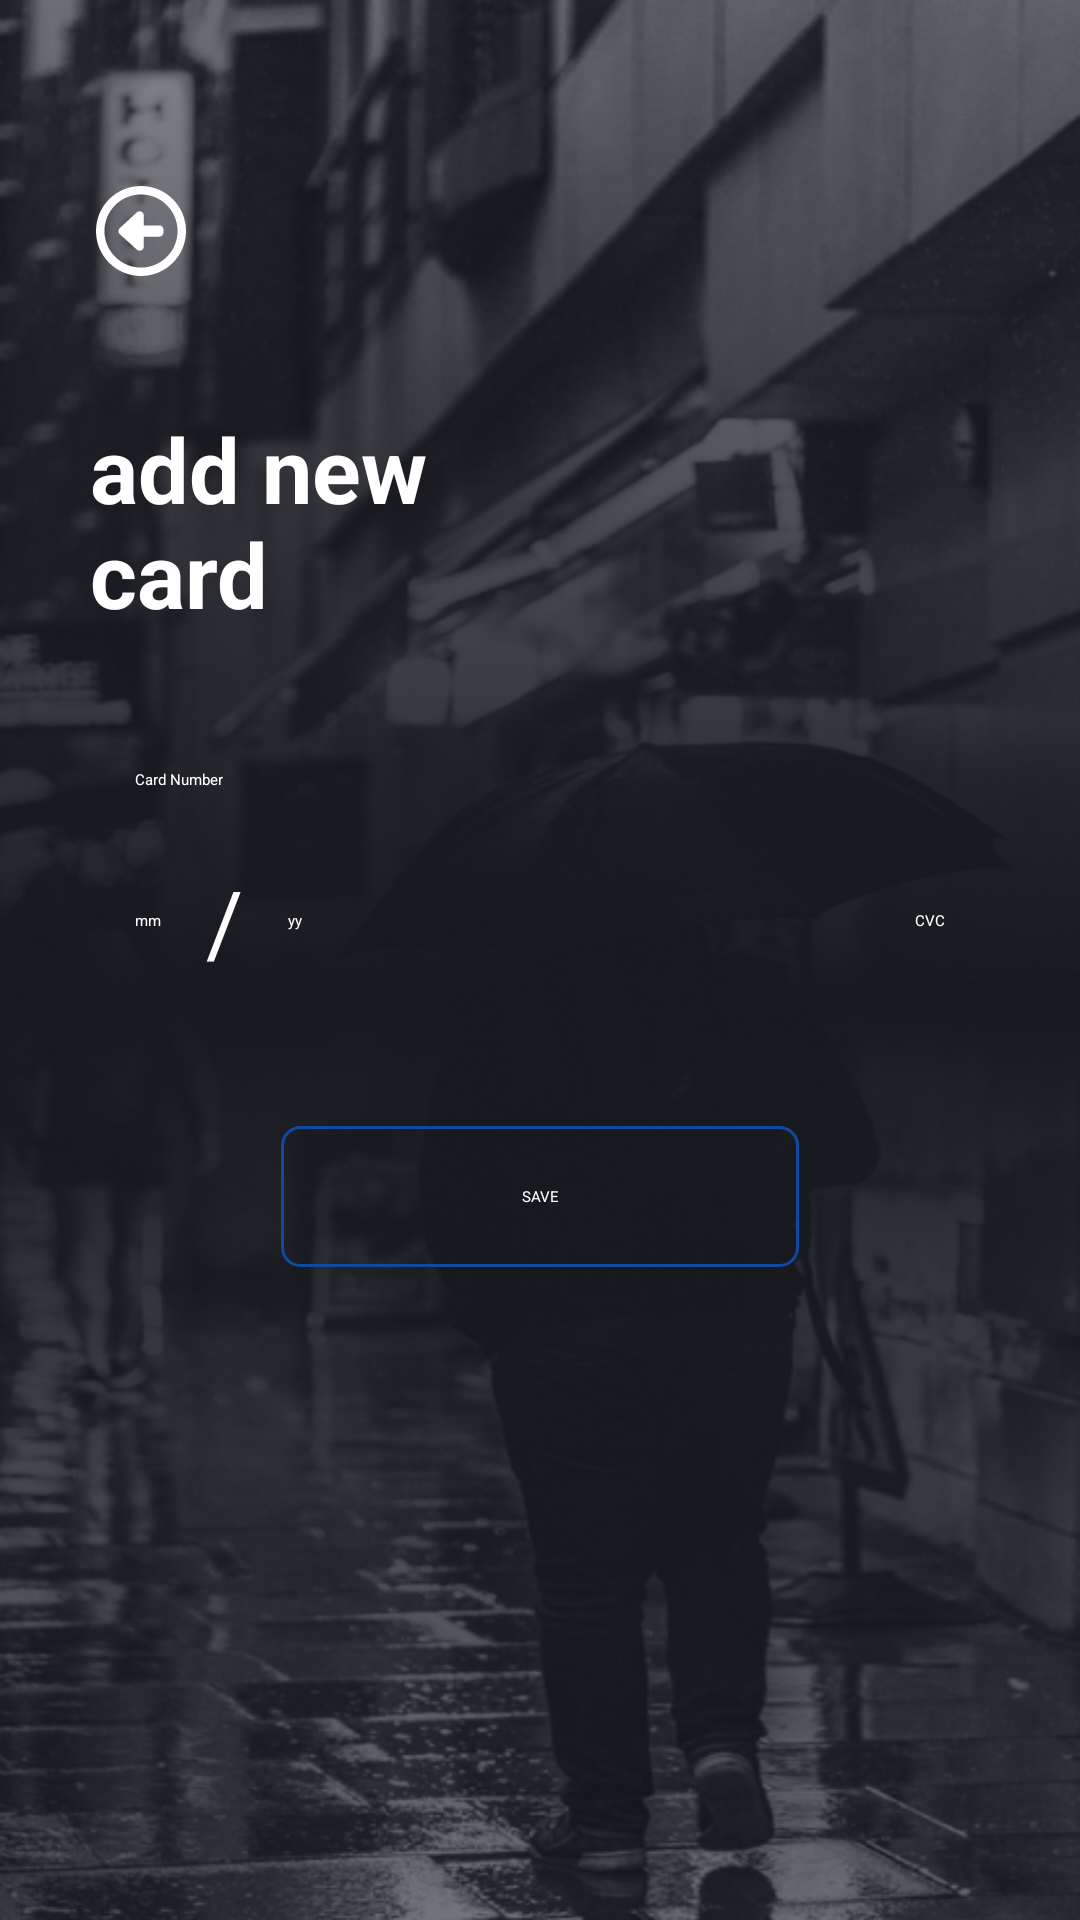

Point at icon controls on the screen. Image size 1080 × 1920, points as (x=x, y=y).
back: (x=141, y=231)
